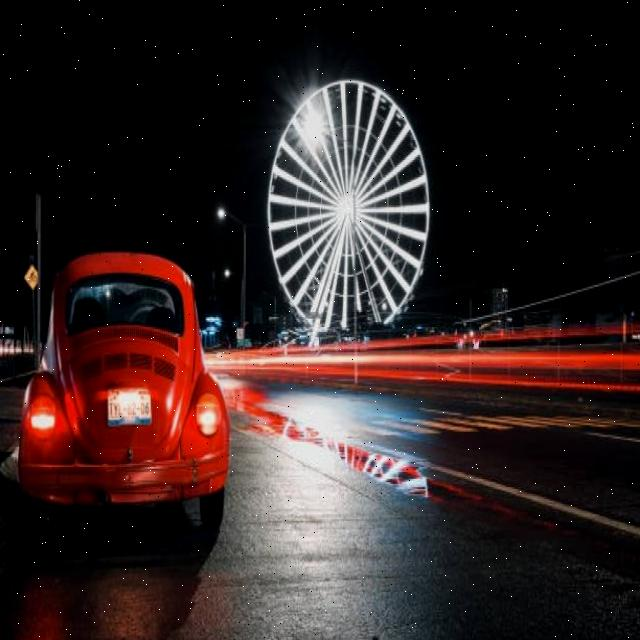car: (15, 248, 226, 532)
